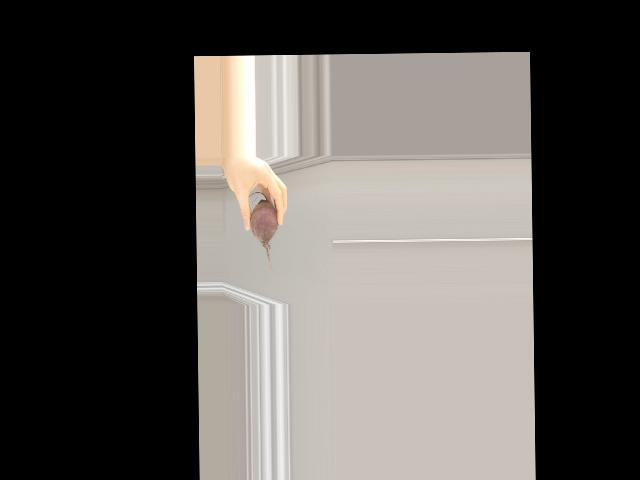beet: (248, 192, 278, 280)
